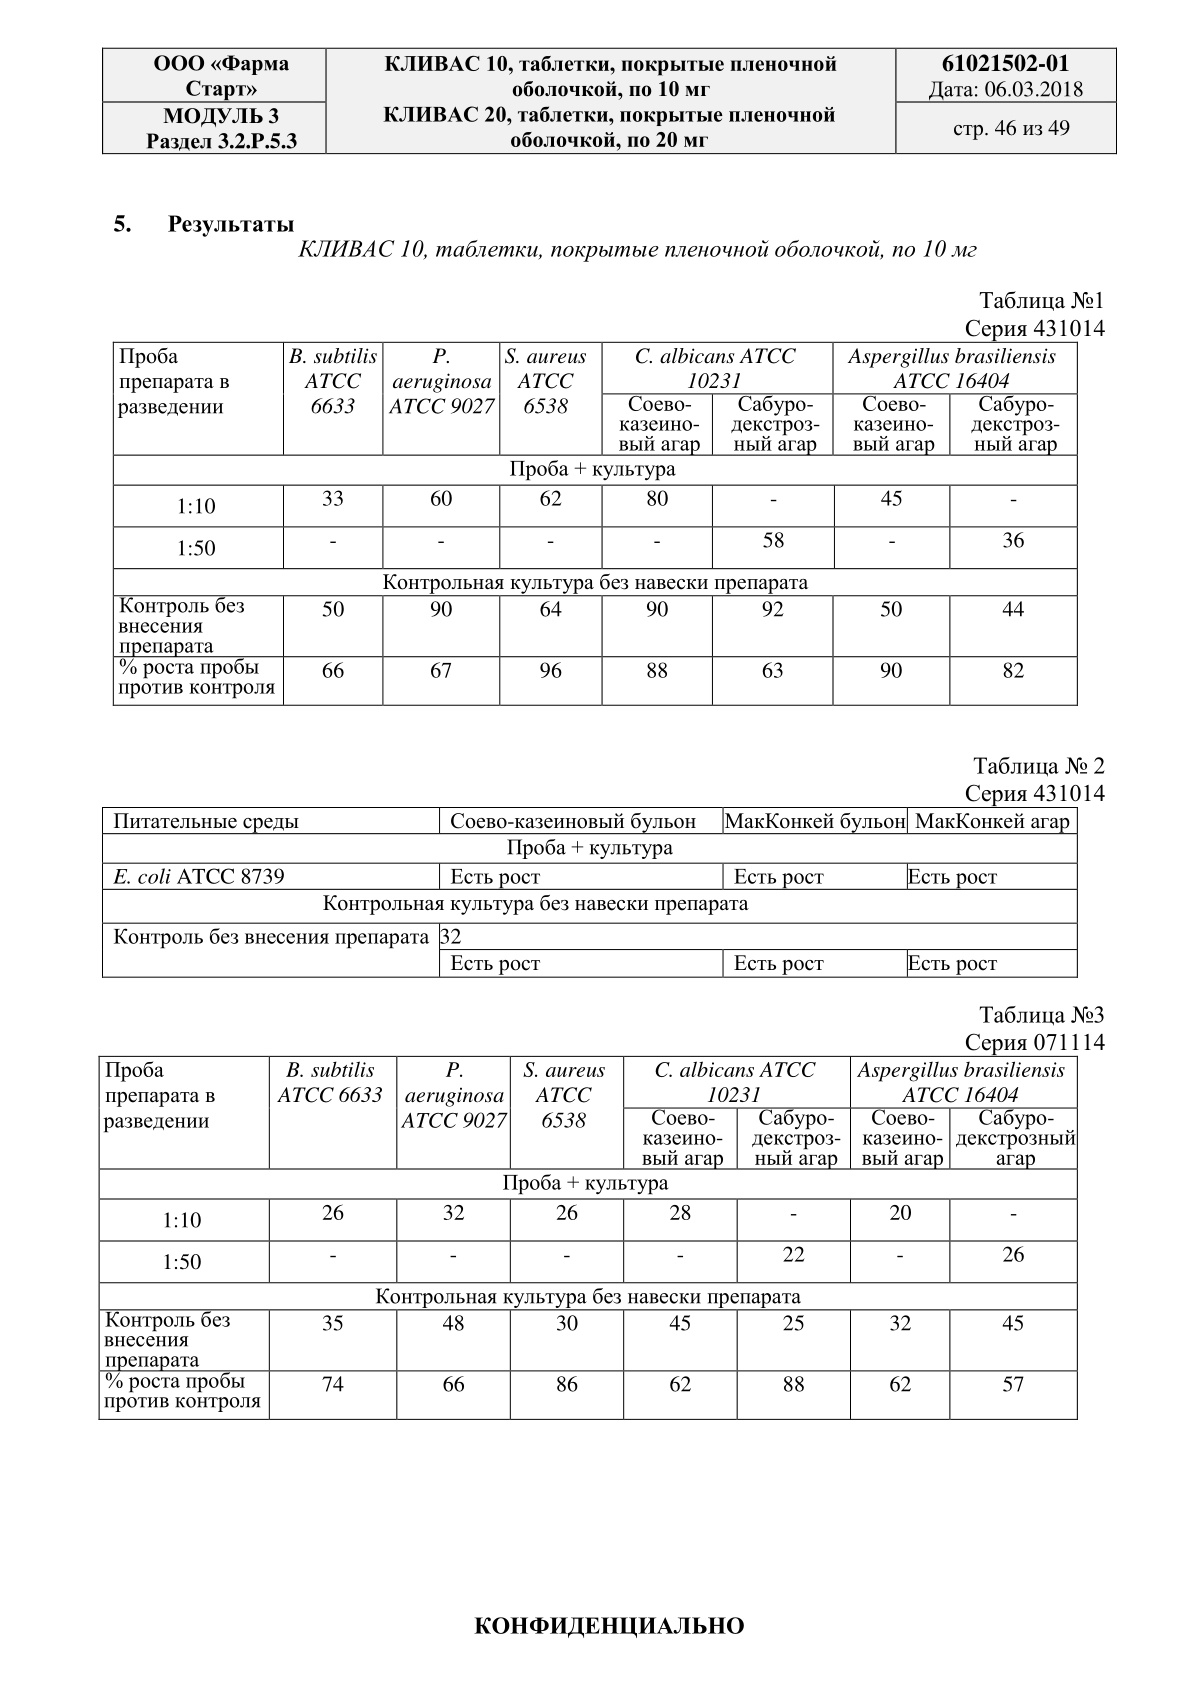merged_cells: (95, 1055, 1078, 1421), (111, 340, 1078, 706), (99, 804, 1078, 979), (101, 45, 1118, 155)
